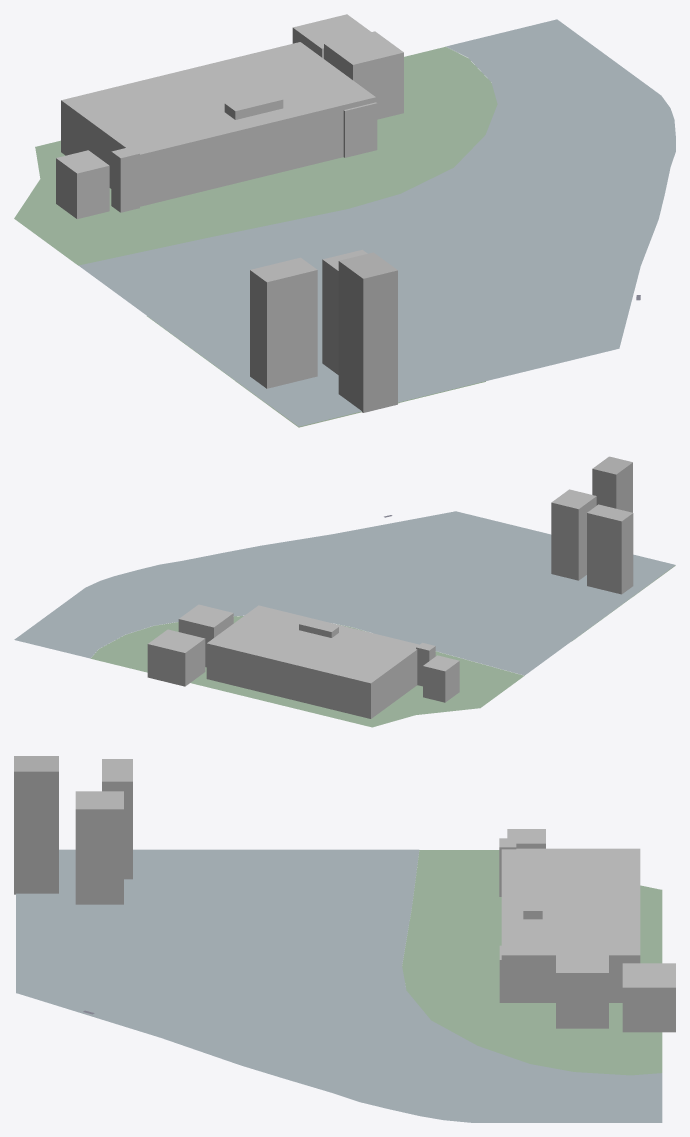
File: 122_81_mid.glb
The picture shows the model from 3 angles, top to bottom: view 1: azimuth 30°, elevation 25°; view 2: azimuth 150°, elevation 25°; view 3: azimuth 270°, elevation 25°; orthographic projection. The views are drawn at different scales.
Size of the model in its own units: 500 by 105 by 512.
